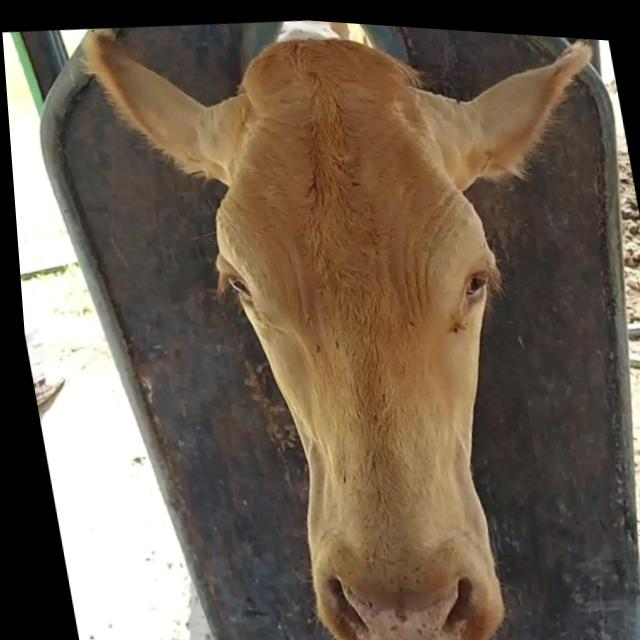cowFace: (173, 9, 561, 640)
